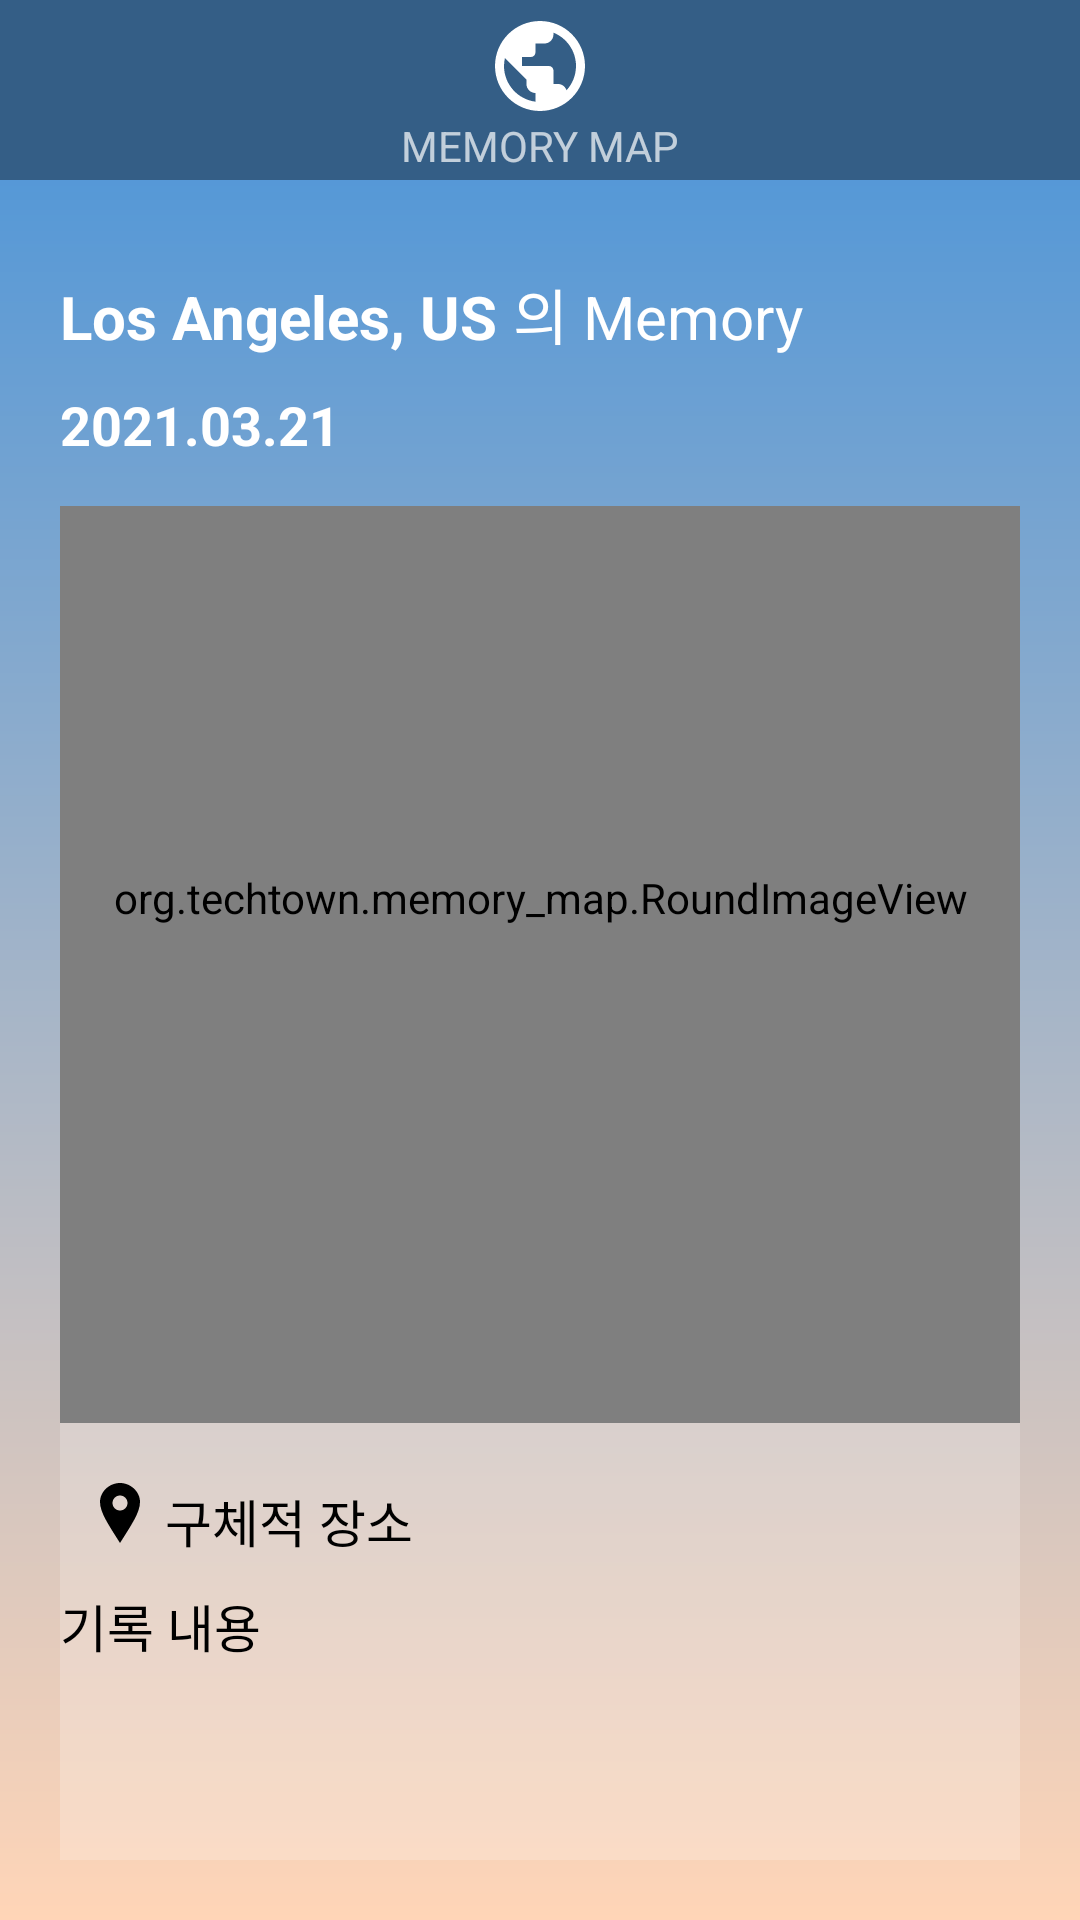

Where to tap for icons on this 1080px×1920px app screen, as (x=x, y=y):
mappin: (x=120, y=1513)
